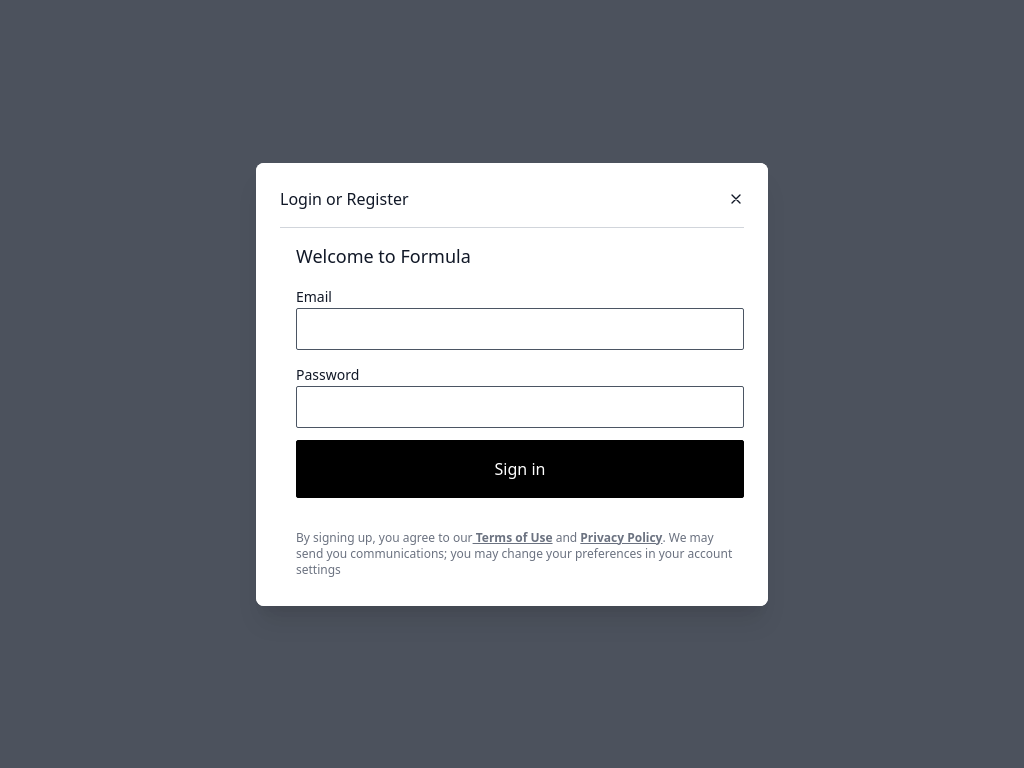
Test: Login › test clicking the submit button should validate the form
Expected: the text "email is a required field" is not shown
Expected: the text "password must be at least 8 characters" is not shown
Click the button "Sign in".
click(520, 468)  # box [296,440,744,498]
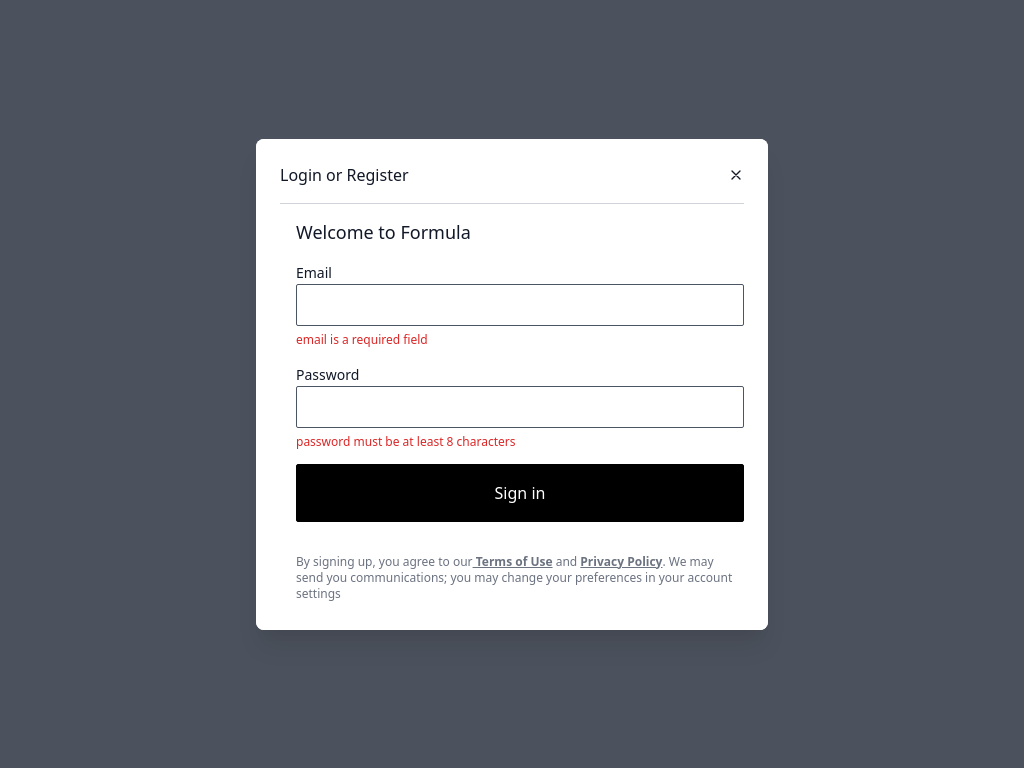
Result: the text "email is a required field" is shown at [296,330,428,348]
Result: the text "password must be at least 8 characters" is shown at [296,432,516,450]
